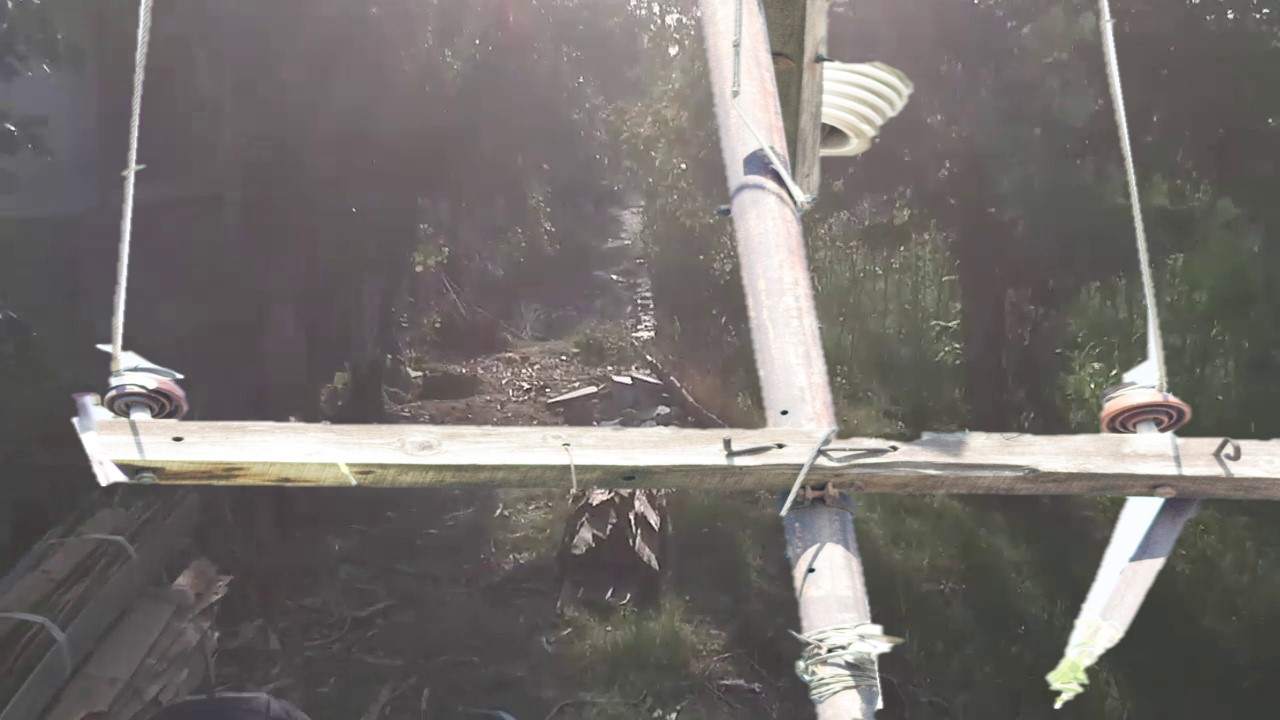defect_pin: (97, 348, 191, 420)
insulator_pin: (1094, 379, 1198, 436)
